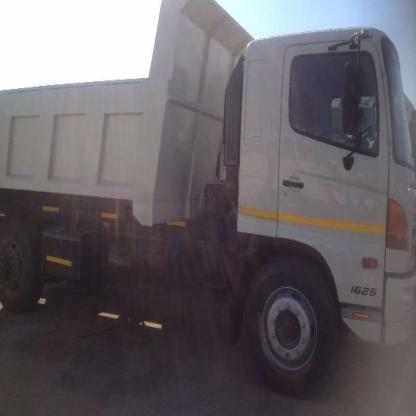dump_truck: (2, 2, 415, 402)
